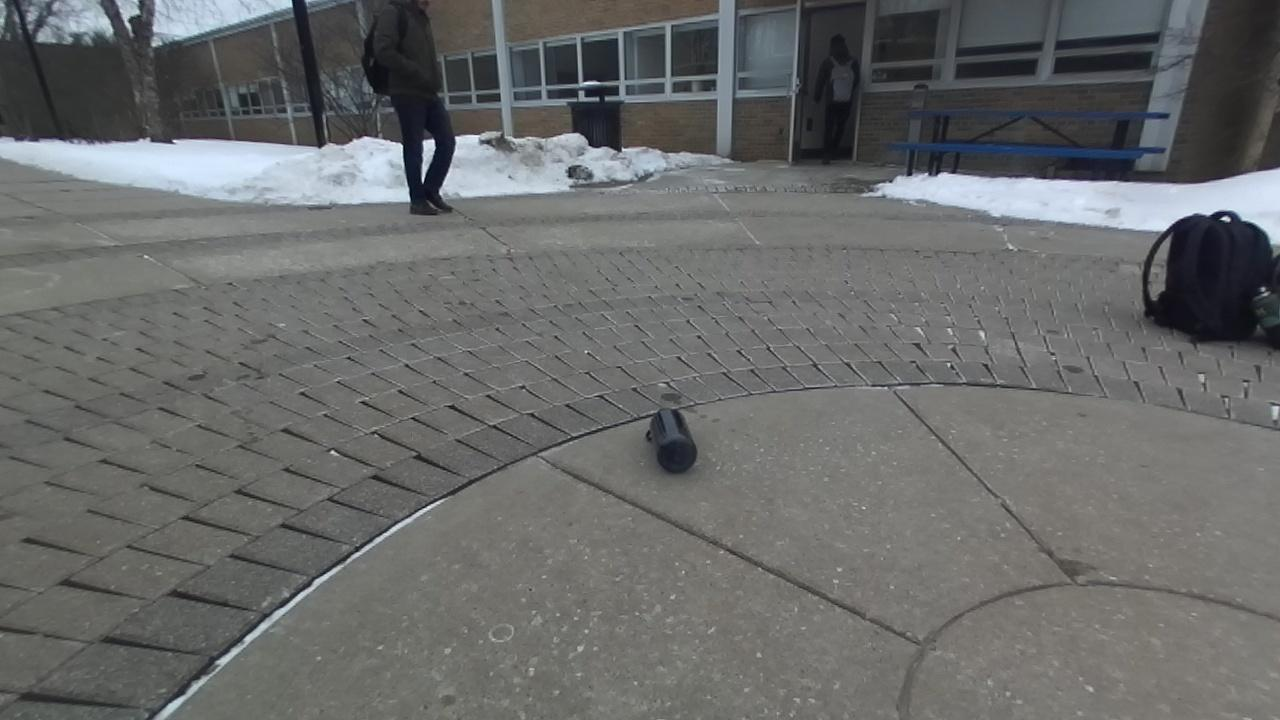bottle: (646, 408, 696, 472)
